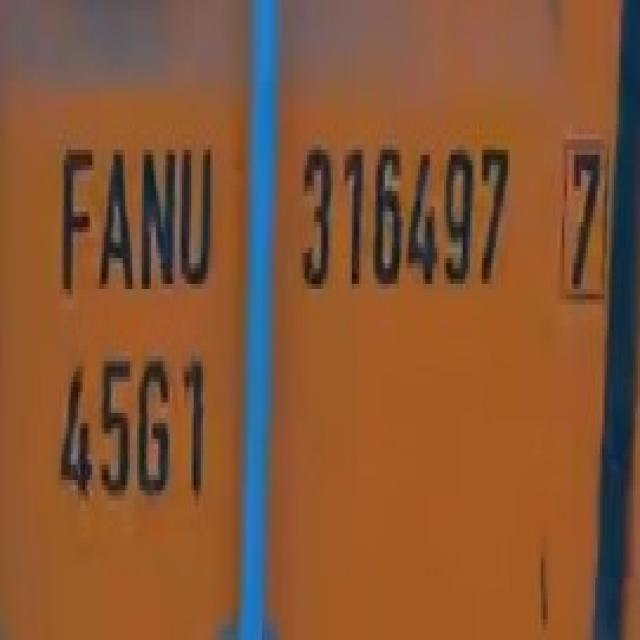dv: (546, 111, 620, 315)
owner: (51, 129, 217, 315)
serial: (286, 93, 516, 315)
size: (48, 332, 234, 536)
